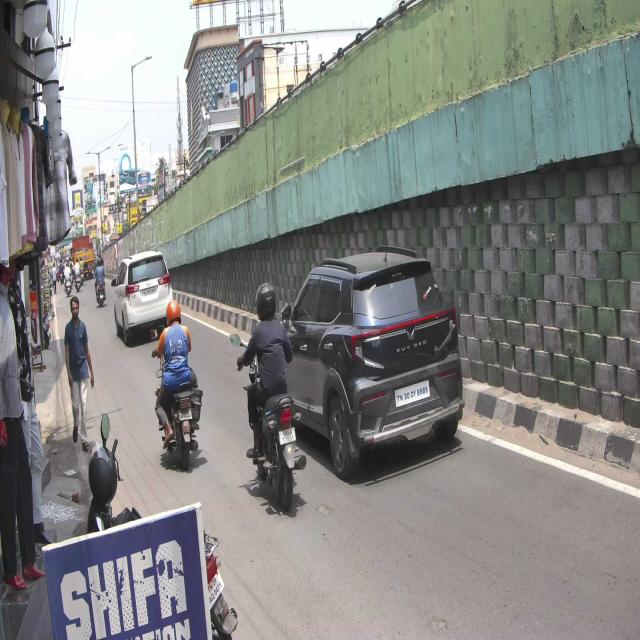single_rider: (233, 281, 310, 513), (150, 295, 204, 473)
